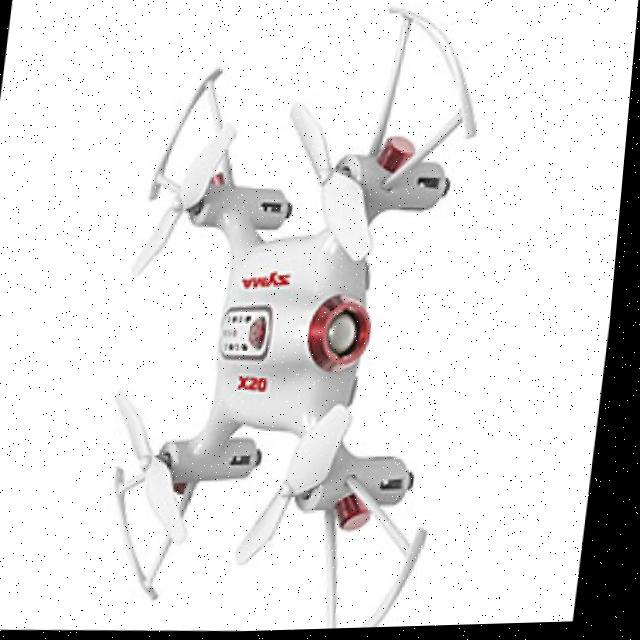drones: (75, 0, 530, 637)
